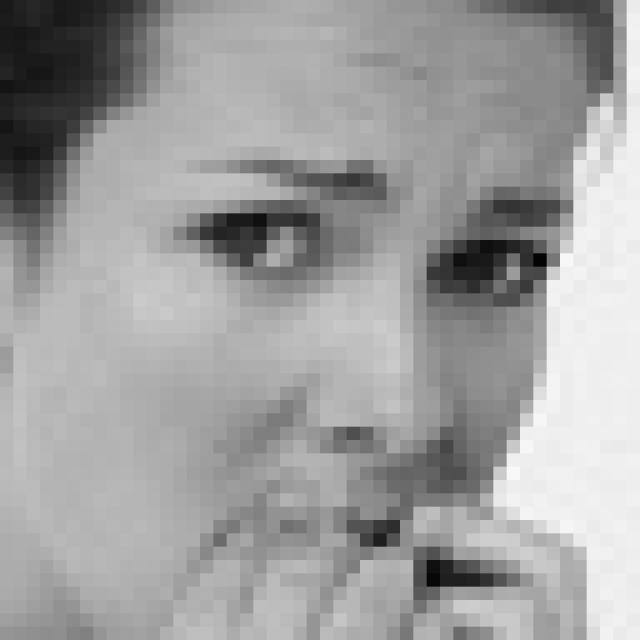fear: (168, 145, 550, 590)
